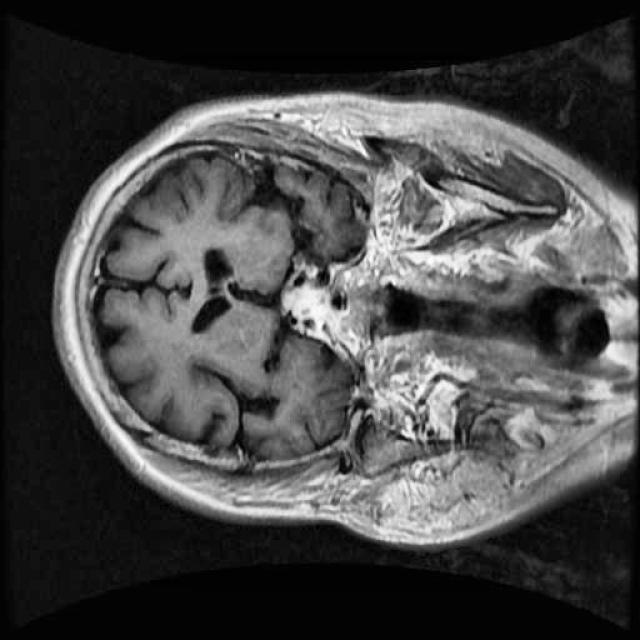Tumor: (281, 274, 359, 342)
